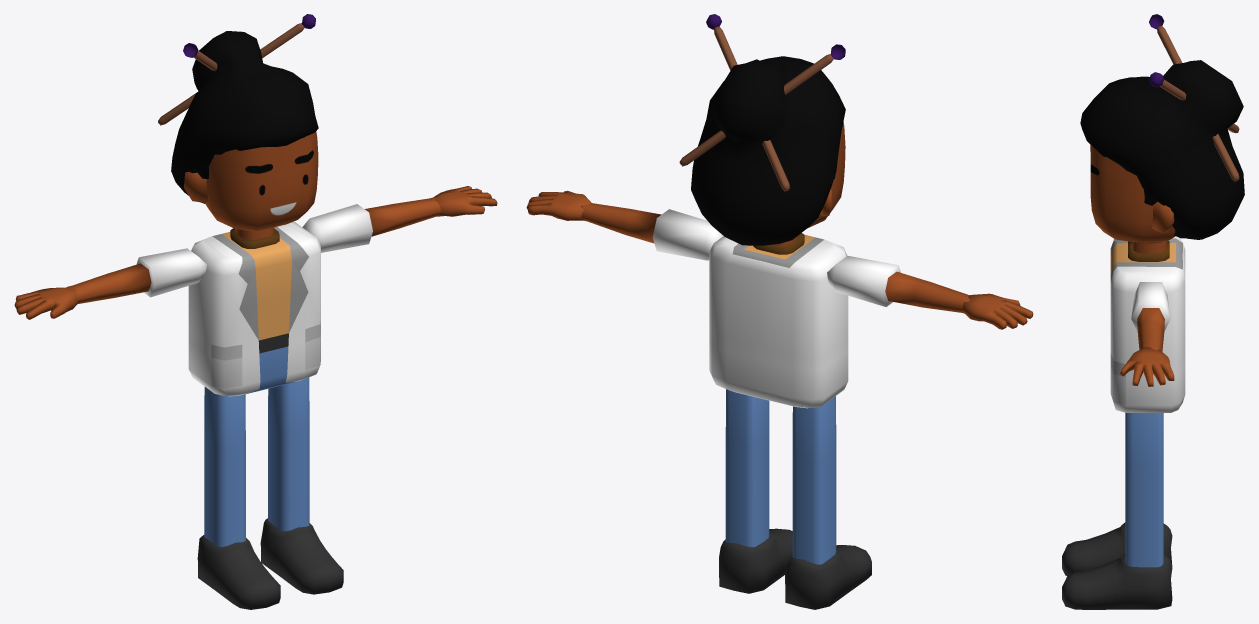
File: NPC_Yellow02_BlackHair03.gltf
3 renders of one model, left to right at view 1: azimuth 30°, elevation 25°; view 2: azimuth 150°, elevation 25°; view 3: azimuth 270°, elevation 25°, orthographic. The views are drawn at different scales.
Parts seen in each view (by area): view 1: NPC_Corpo_Yellow2_BlackHair.003; view 2: NPC_Corpo_Yellow2_BlackHair.003; view 3: NPC_Corpo_Yellow2_BlackHair.003.
Boxes of the visible parts, <box> form: NPC_Corpo_Yellow2_BlackHair.003: <box>14,14,497,609</box>; NPC_Corpo_Yellow2_BlackHair.003: <box>526,14,1033,609</box>; NPC_Corpo_Yellow2_BlackHair.003: <box>1062,14,1244,609</box>.
Bounding box in the file's own units: 2.31 × 2.5 × 0.7676.
Materials: 1 (1 with a texture image).
